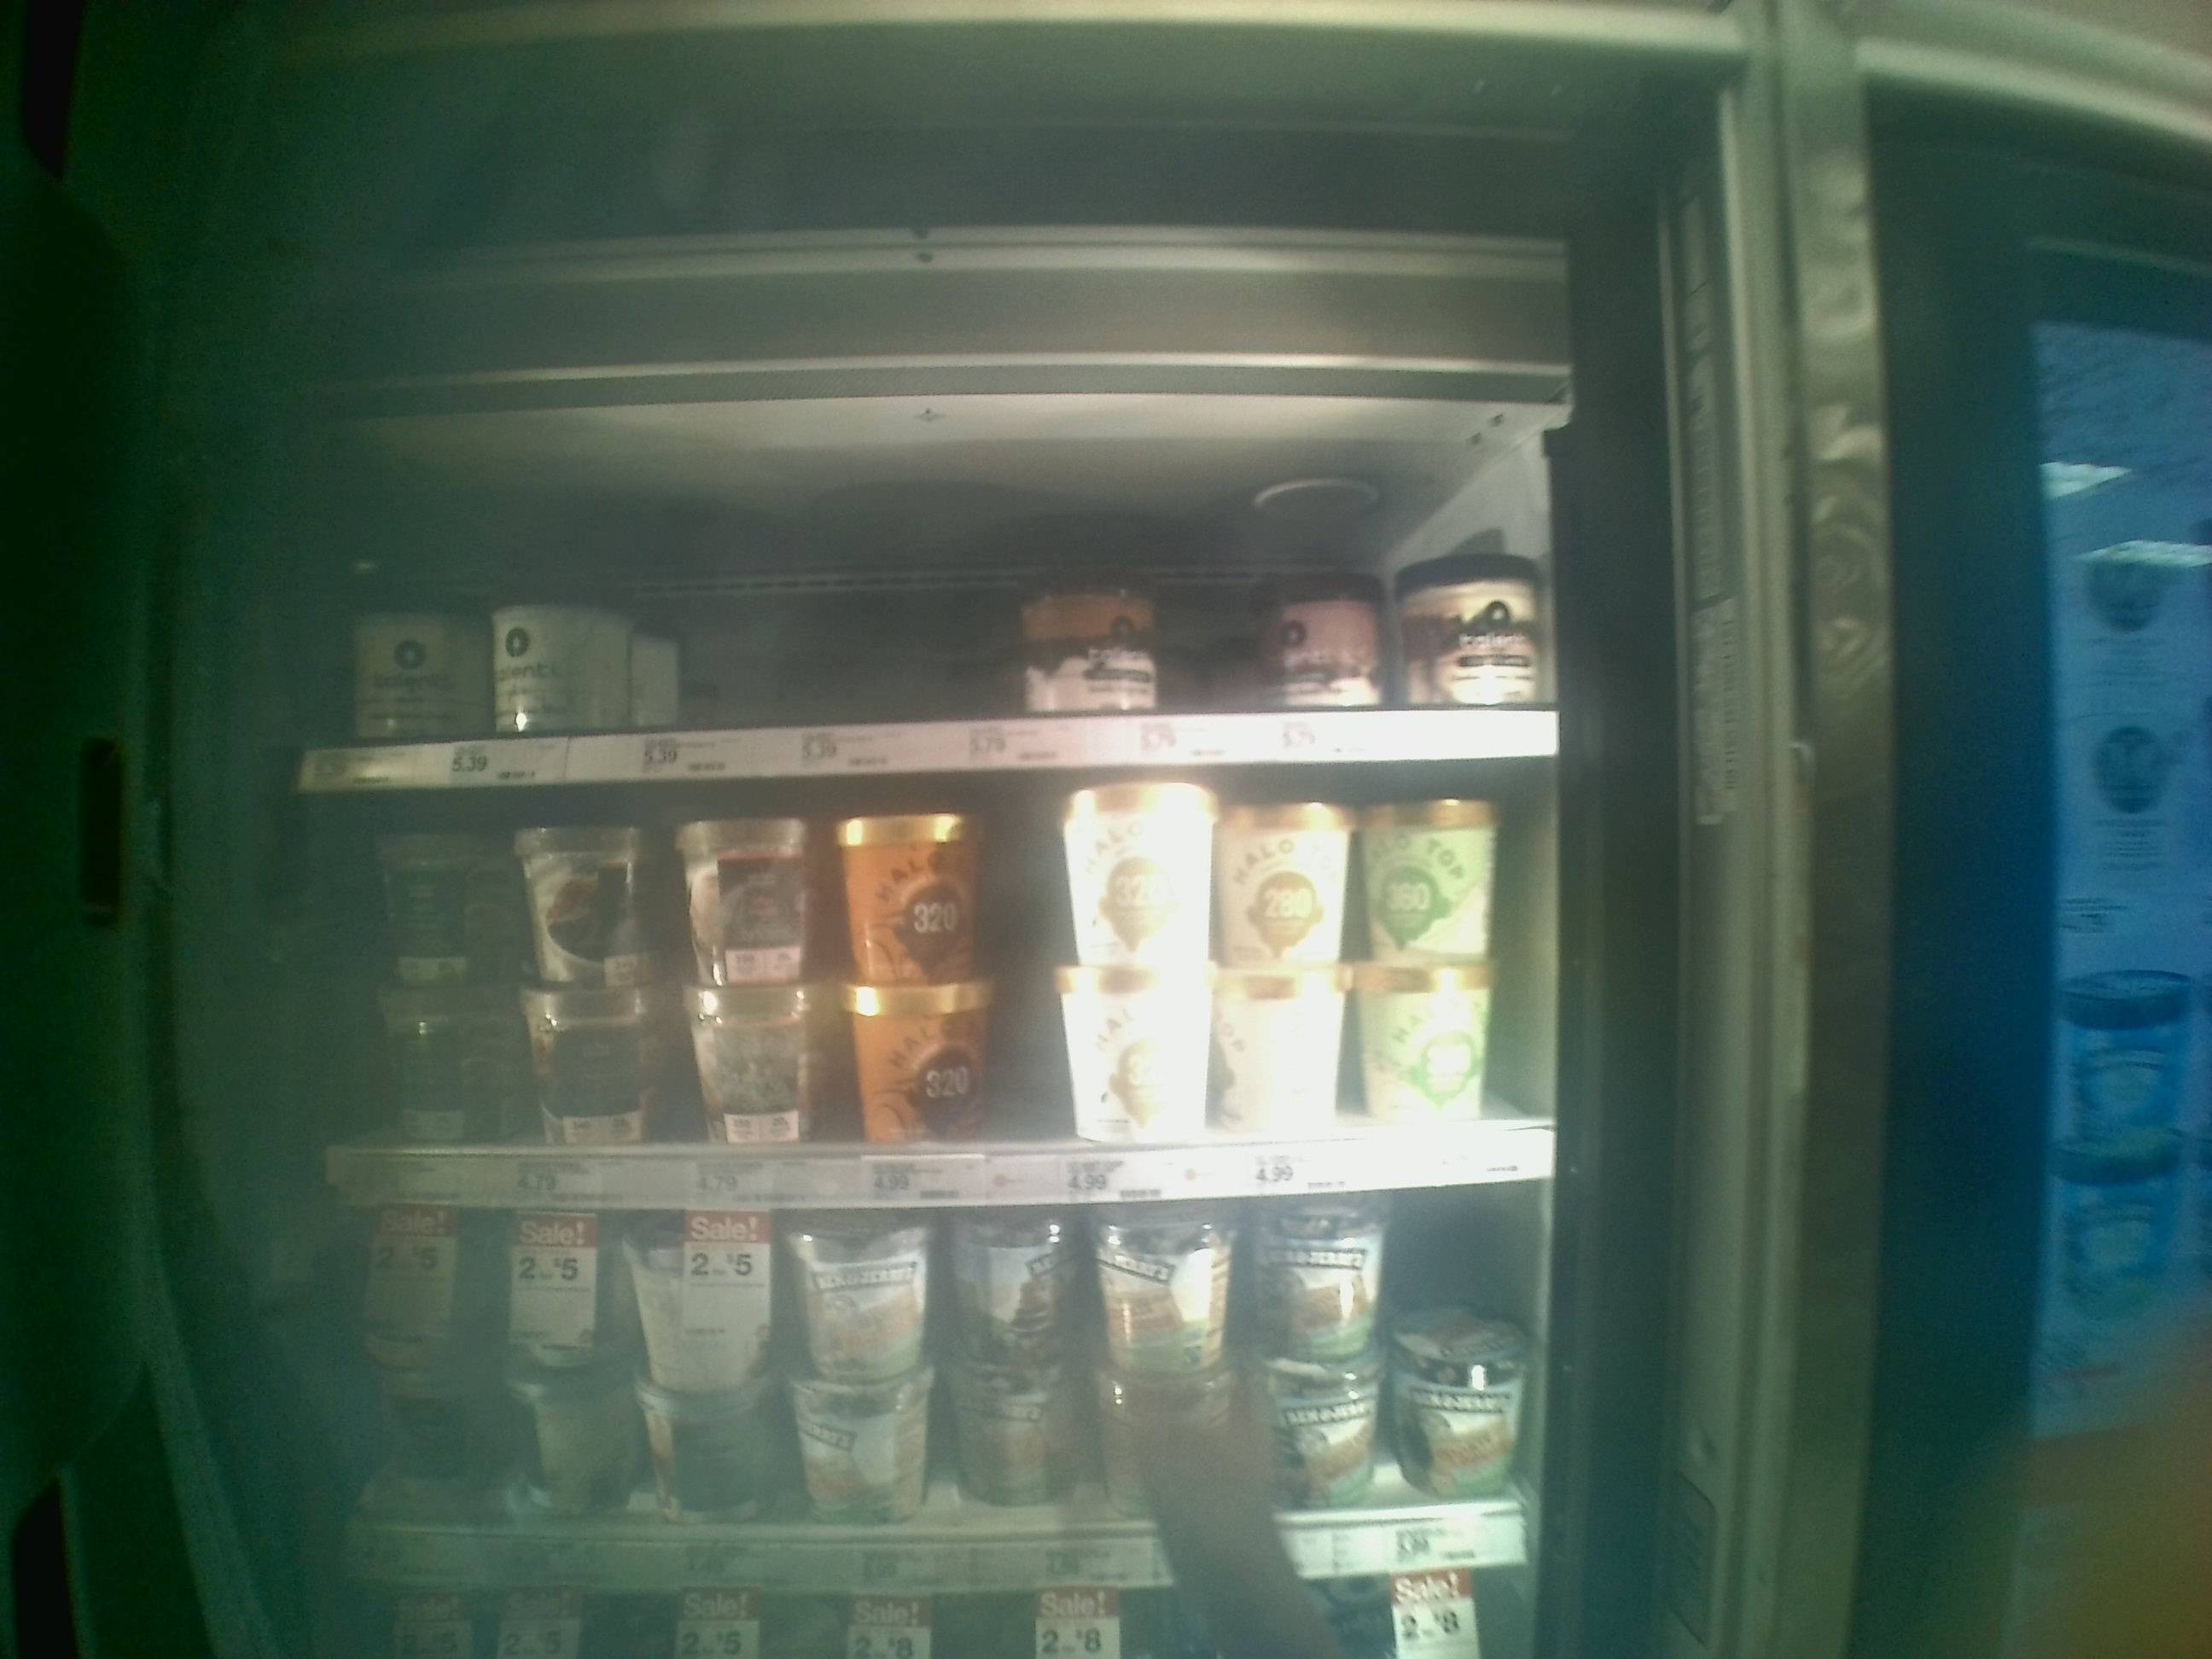shelf: (275, 762, 1564, 1206), (279, 448, 1569, 763)
